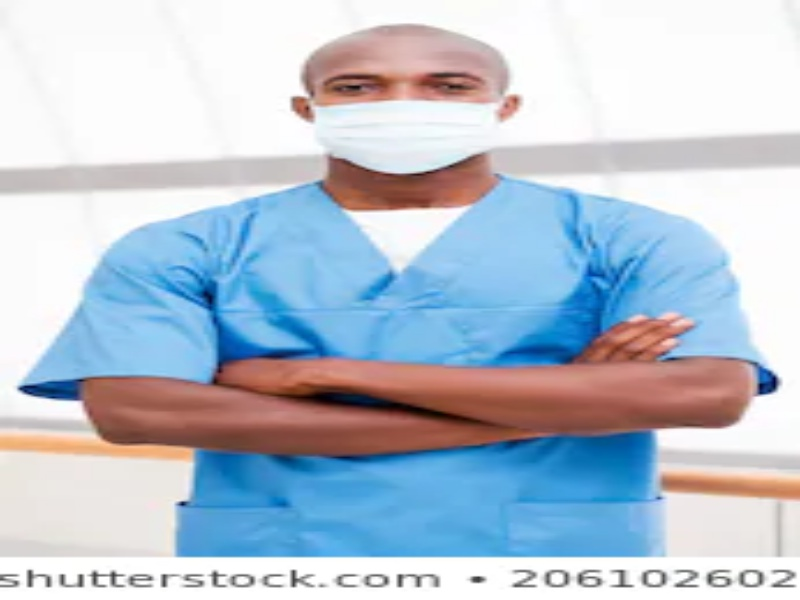ManaoArotava: (287, 21, 520, 189)
